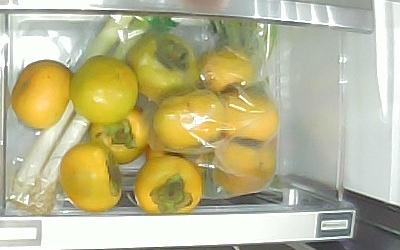persimmon: (70, 56, 139, 122), (60, 142, 123, 212), (12, 58, 72, 129), (134, 155, 202, 213), (89, 108, 151, 165)
persimmon_vinyl: (127, 32, 201, 100), (153, 89, 225, 150), (220, 90, 279, 146), (216, 147, 278, 198), (198, 47, 256, 96)
